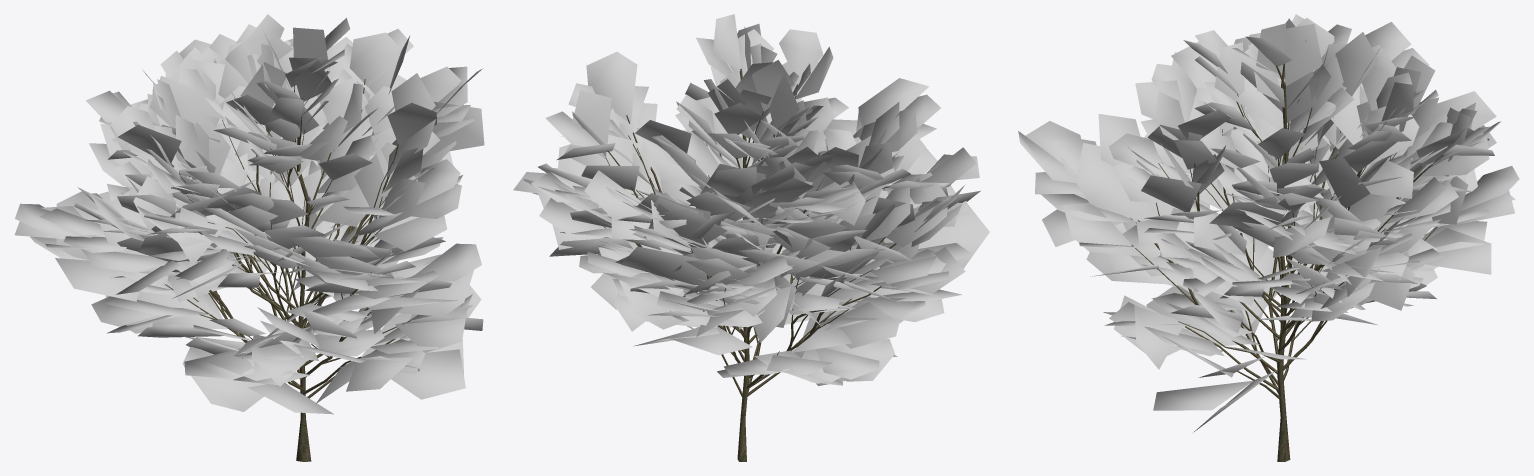
File: Tree_Sm_07_2_L2.fbx
3 views of the same model, side by side, from view 1: azimuth 30°, elevation 25°; view 2: azimuth 150°, elevation 25°; view 3: azimuth 270°, elevation 25° (orthographic). The views are drawn at different scales.
Parts seen in each view (by area): view 1: polySurface47; view 2: polySurface47; view 3: polySurface47.
Part boxes in pixels (box(x1,y1,x2,y2)): polySurface47: box(14, 14, 484, 461); polySurface47: box(513, 14, 989, 461); polySurface47: box(1018, 14, 1519, 461).
Bounding box in the file's own units: 597 × 569 × 591.
